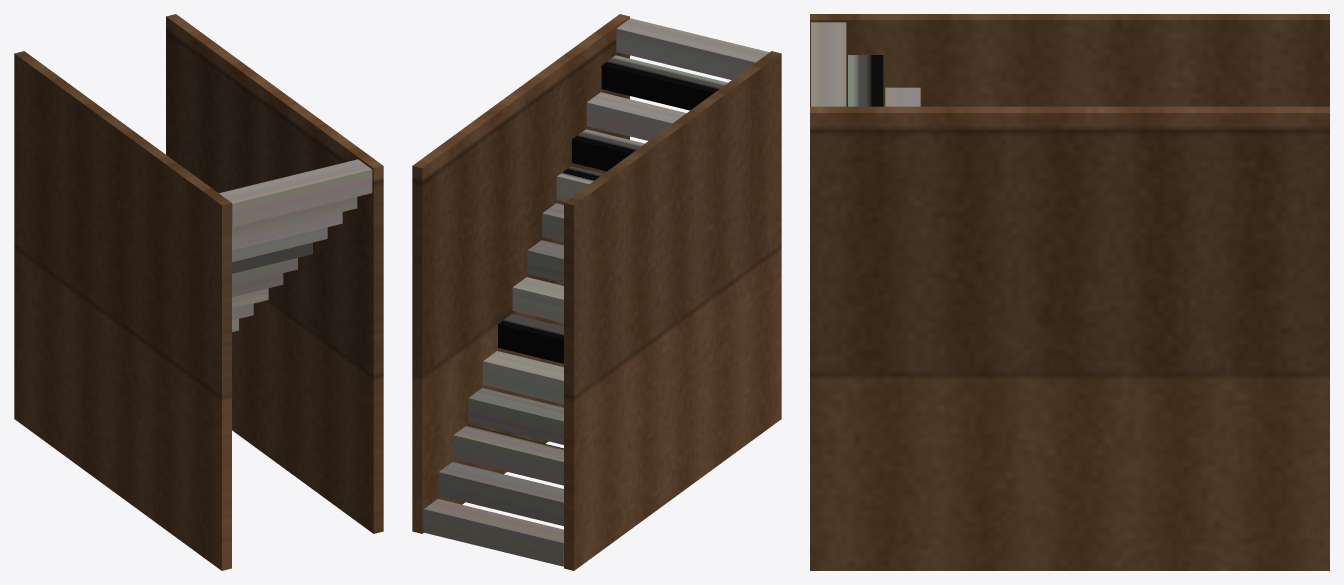
The model's file is CastleKeepStairs.glb.
3 renders of one model, left to right at view 1: azimuth 30°, elevation 25°; view 2: azimuth 150°, elevation 25°; view 3: azimuth 270°, elevation 25°, orthographic. The views are drawn at different scales.
Parts seen in each view (by area): view 1: CastleKeepStairs; view 2: CastleKeepStairs; view 3: CastleKeepStairs.
Part boxes in pixels (x1,y1,x2,y2): CastleKeepStairs: (14, 14, 383, 570); CastleKeepStairs: (412, 14, 781, 570); CastleKeepStairs: (810, 14, 1329, 570).
Size of the model in its own units: 1.62 by 3.5 by 3.6.
2 materials, 2 textured.
